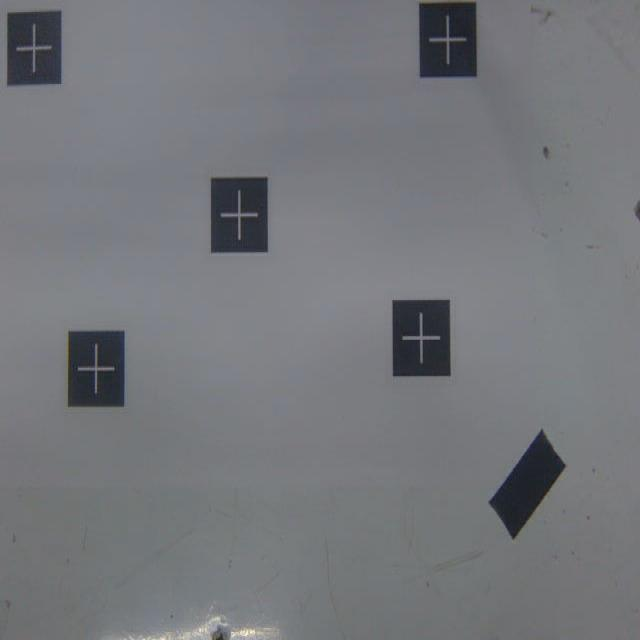dot: (66, 328, 125, 408), (393, 300, 450, 378), (6, 10, 61, 87), (421, 0, 476, 77), (211, 176, 266, 252)
